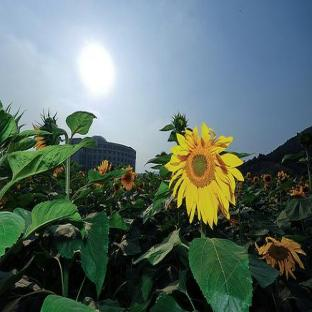sunflower: (164, 123, 244, 230)
